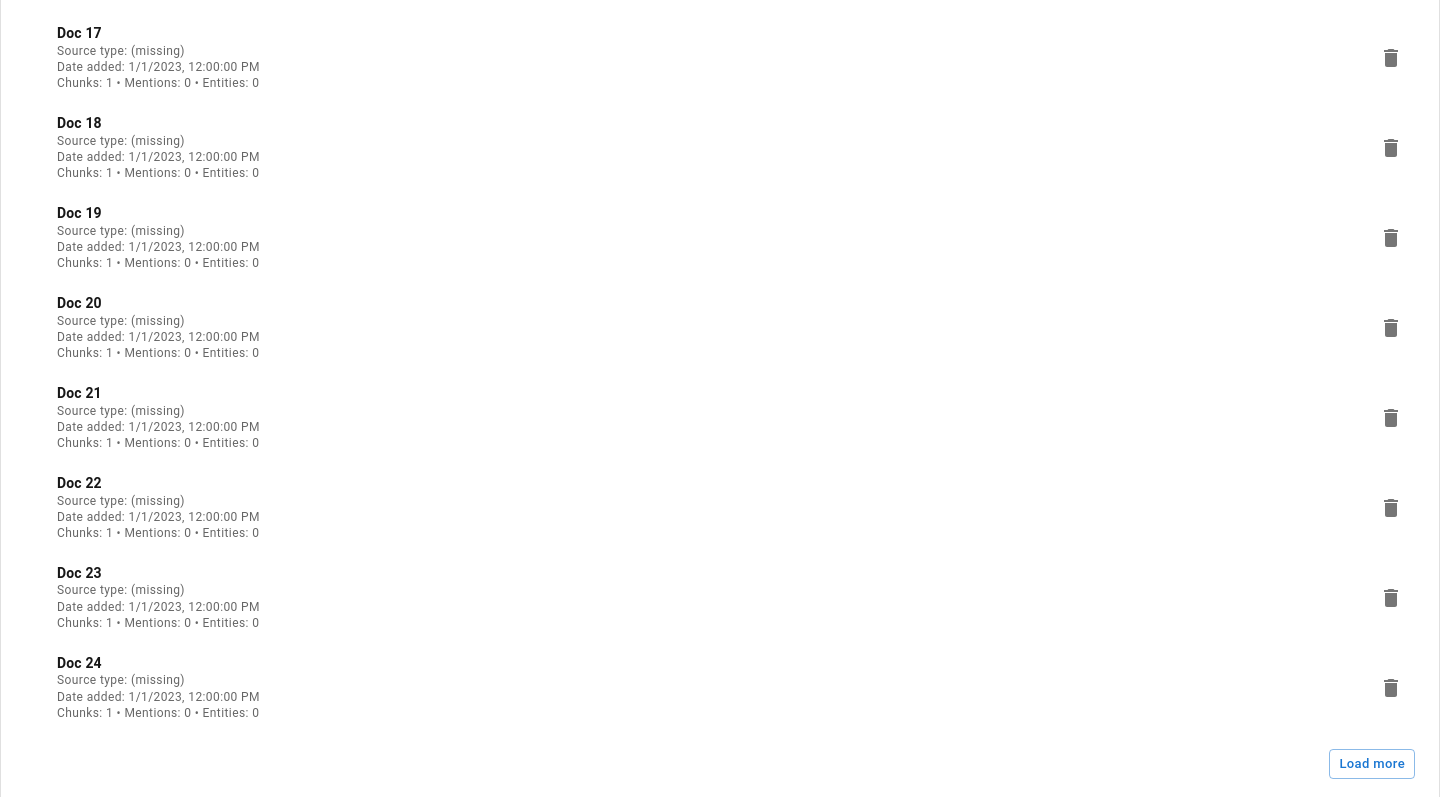
Scenario: DocumentsListPane › handles load more button
(page scrolled)
Expected: the text "Doc 25" is not shown
Click the button "Load more": (1372, 764) [1329,749,1415,779]
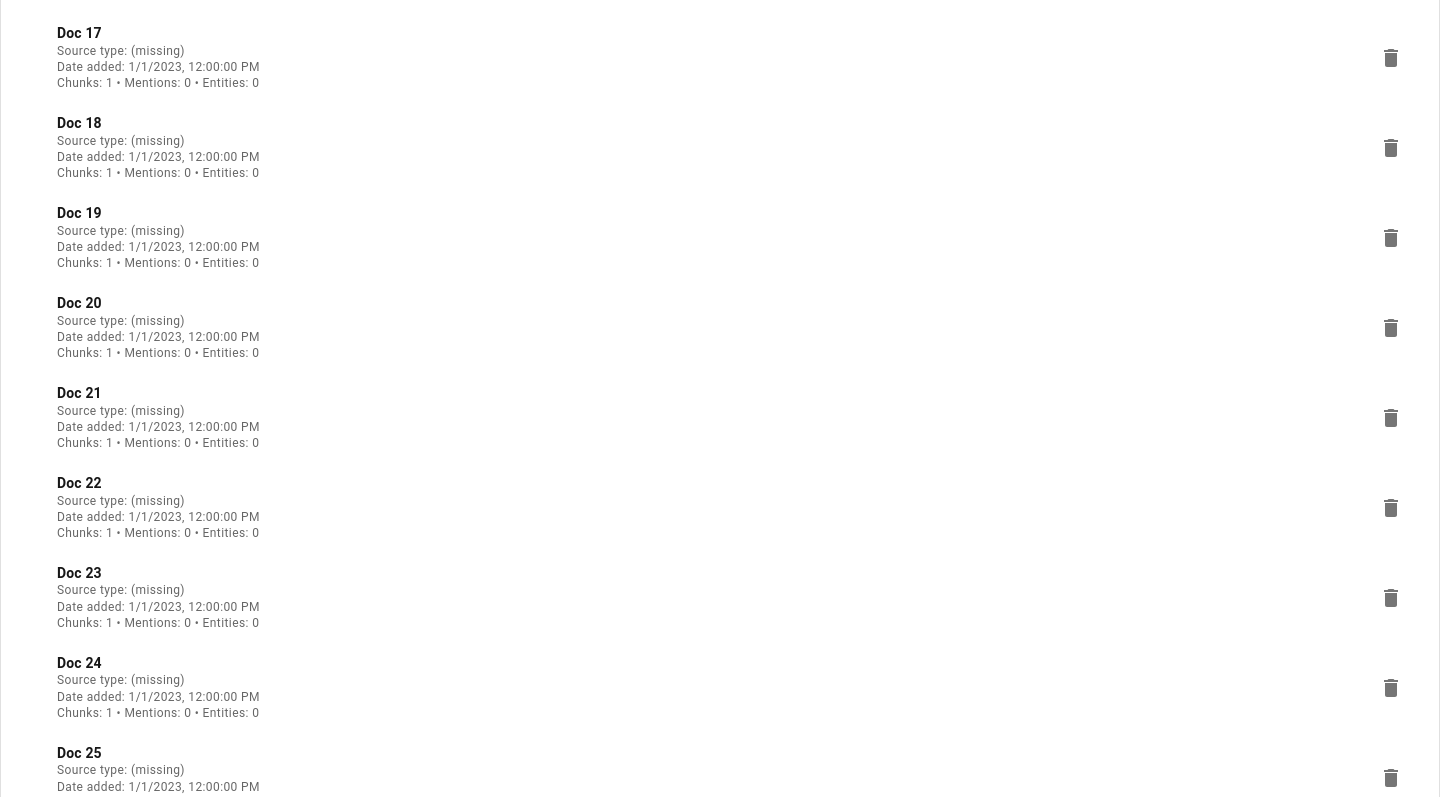
Expected: the text "Doc 25" is shown, [57,745,102,761]
